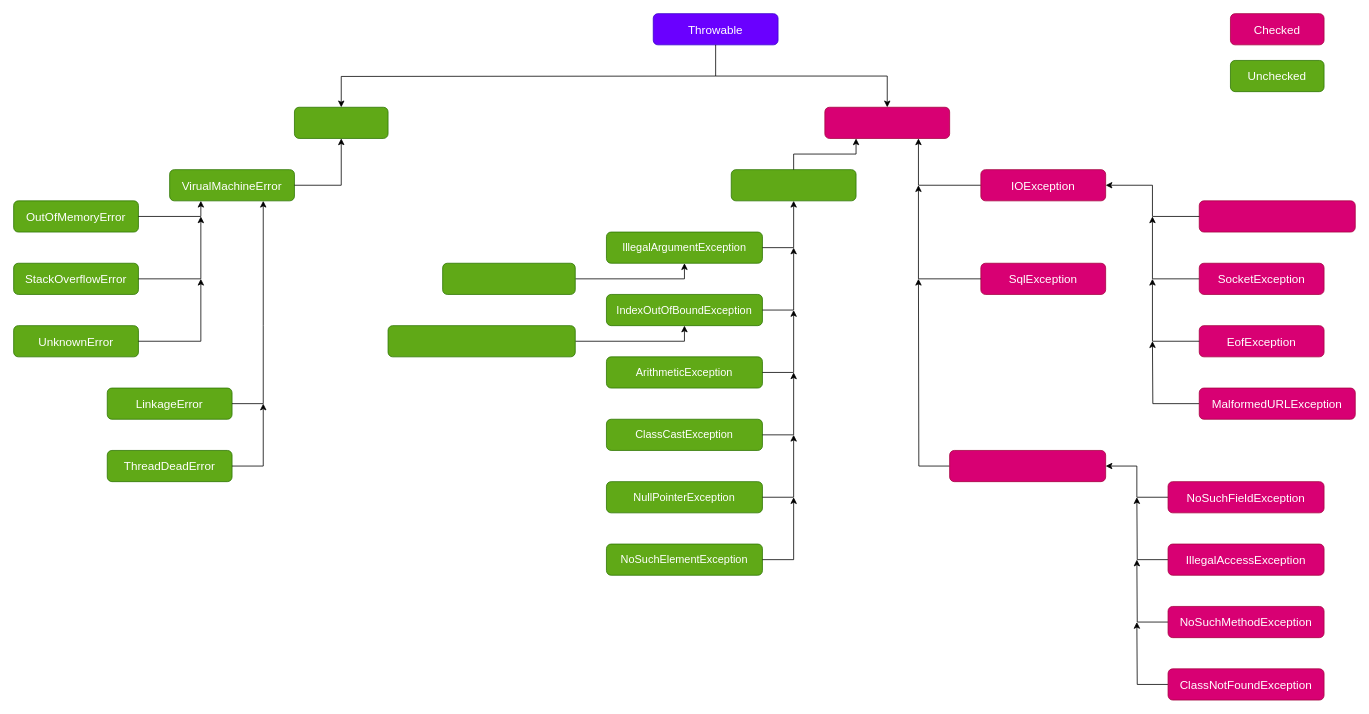
This 1369x714 diagram has some shape labels left out. Here are the shapes that lost their labels. From the top down, the centre of each, then its label:
point (341, 122): Error
point (887, 122): Exception
point (793, 185): RuntimeException
point (1276, 216): FileNotFoundException
point (508, 278): NumberFormatException
point (481, 341): ArrayIndexOutOfBoundException
point (1027, 466): ReflectiveOperatonException
